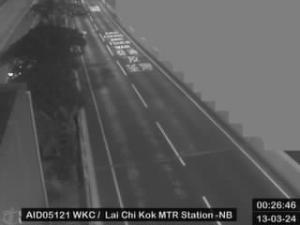vehicle: (9, 62, 26, 84)
